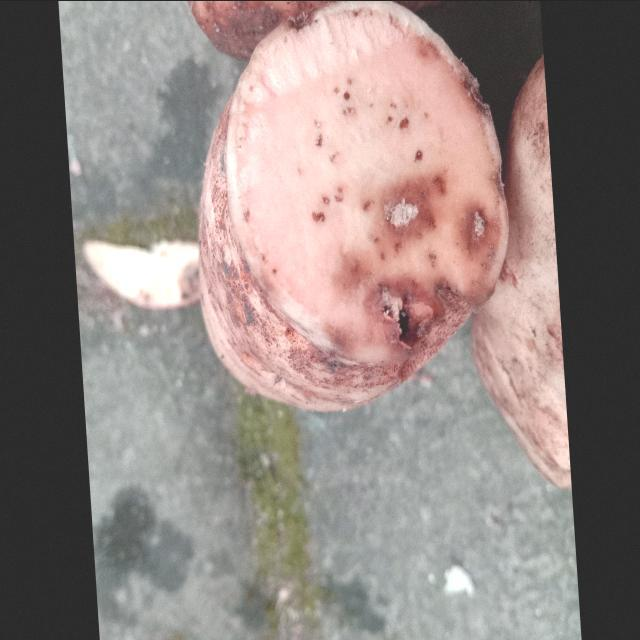Sick Sweet Potato_Tuber Rot: (226, 2, 509, 363)
